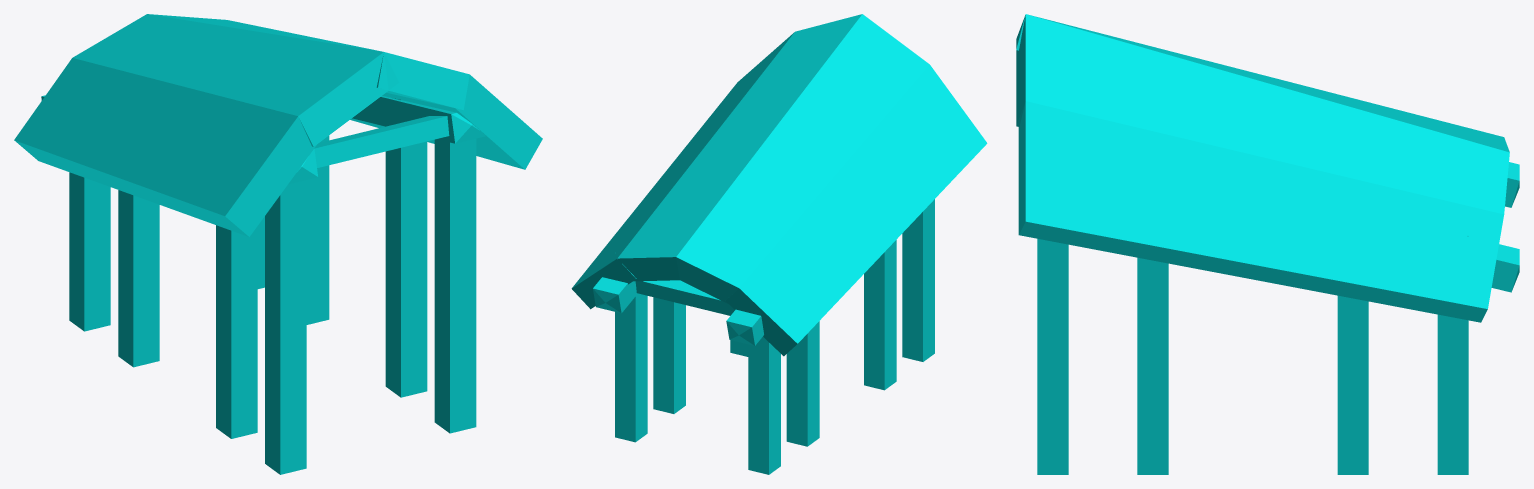
File: SM_Bld_Roof_Thatch_Preset_06_Collision.fbx
The picture shows the model from 3 angles, left to right: view 1: azimuth 30°, elevation 25°; view 2: azimuth 150°, elevation 25°; view 3: azimuth 270°, elevation 25°; orthographic projection. The views are drawn at different scales.
Visible parts, largest first — view 1: SM_Bld_Roof_Thatch_Preset_06_Collision; view 2: SM_Bld_Roof_Thatch_Preset_06_Collision; view 3: SM_Bld_Roof_Thatch_Preset_06_Collision.
Part boxes in pixels (box(x1,y1,x2,y2)): SM_Bld_Roof_Thatch_Preset_06_Collision: box(14, 14, 542, 474); SM_Bld_Roof_Thatch_Preset_06_Collision: box(571, 14, 987, 474); SM_Bld_Roof_Thatch_Preset_06_Collision: box(1016, 14, 1519, 474).
Bounding box in the file's own units: 468 × 571 × 629.
